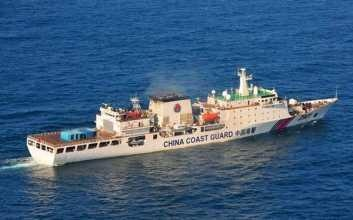warship: (24, 62, 338, 166)
